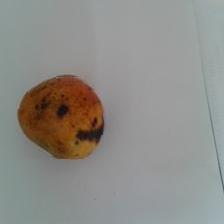Mango Semirotten: (15, 75, 109, 159)
